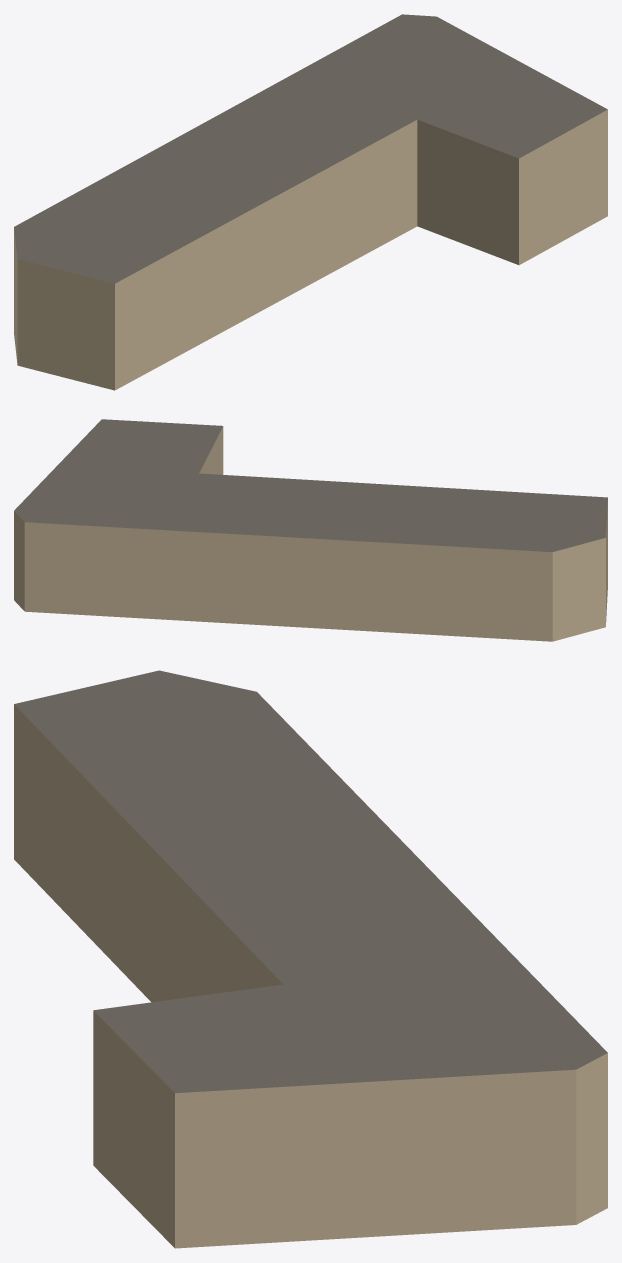
3 views of the same model, one above another, from view 1: azimuth 30°, elevation 25°; view 2: azimuth 150°, elevation 25°; view 3: azimuth 270°, elevation 25° (orthographic). The views are drawn at different scales.
Visible parts, largest first — view 1: HP-w1365510497; view 2: HP-w1365510497; view 3: HP-w1365510497.
Boxes of the visible parts, x1,y1,x2,y2 form: HP-w1365510497: [14, 14, 607, 390]; HP-w1365510497: [14, 419, 607, 641]; HP-w1365510497: [14, 670, 607, 1248].
Bounding box in the file's own units: 77.09 × 13.2 × 45.77.
